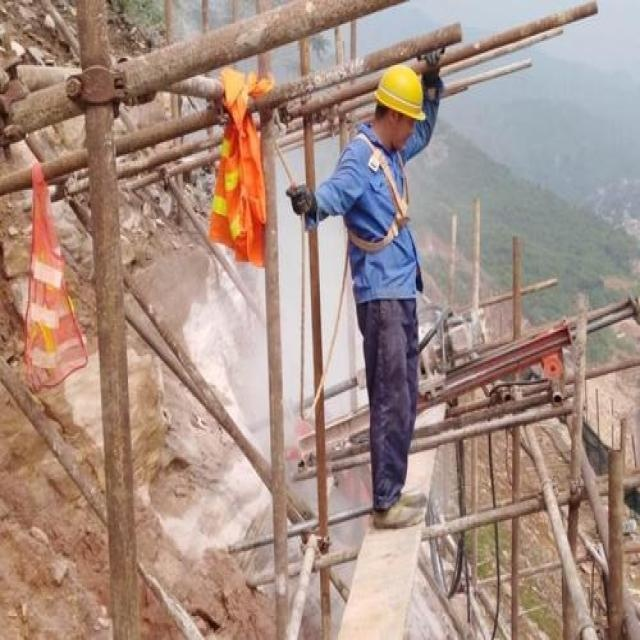Arnes_seguridad: (336, 125, 414, 253)
